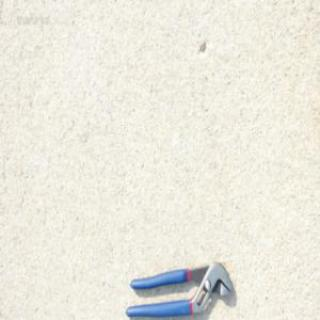Pliertrack_idkeyframe: (125, 260, 232, 312)
